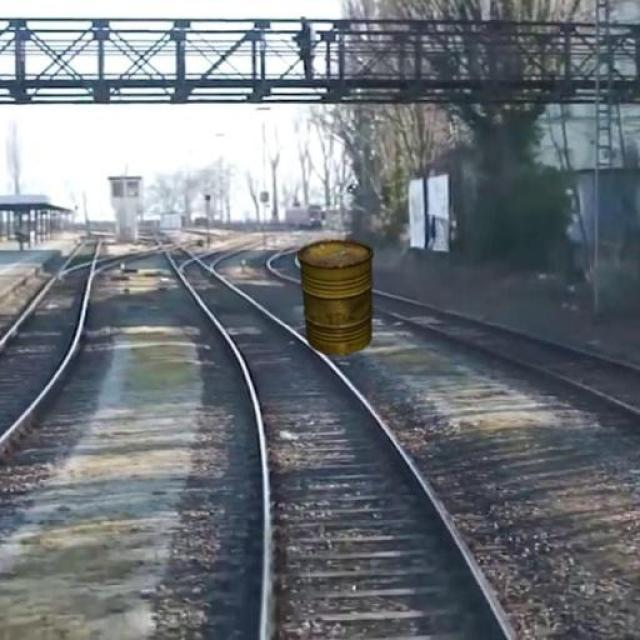Other_objects: (286, 238, 401, 360)
